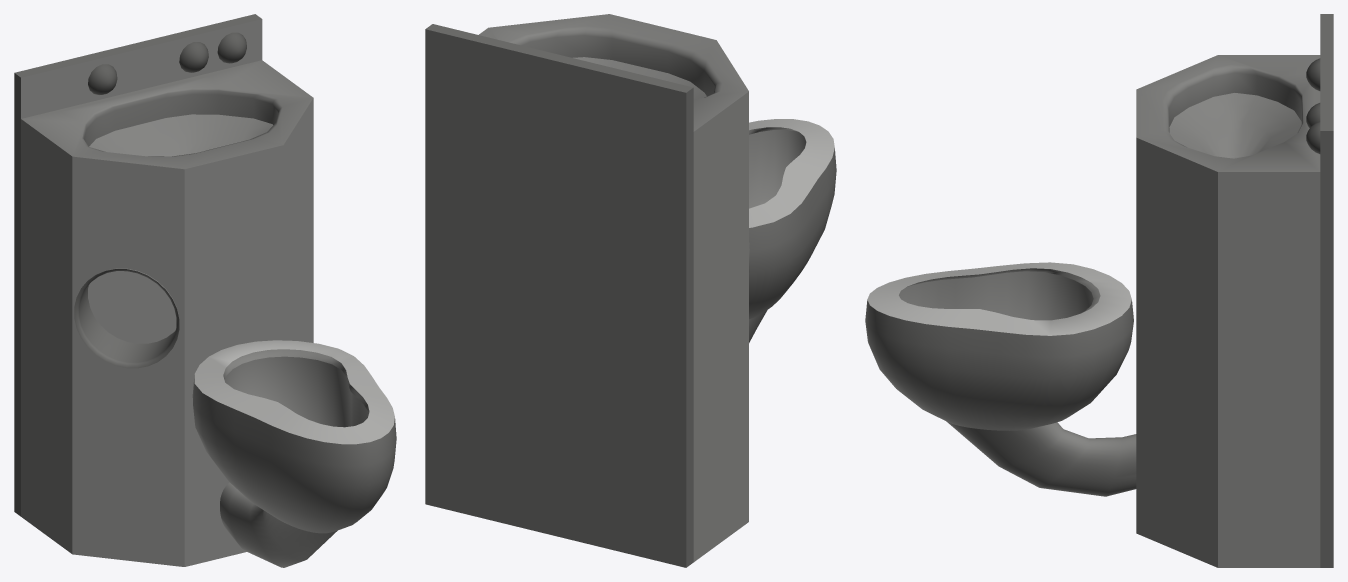
Rendered from toilet.fbx.
3 renders of one model, left to right at view 1: azimuth 30°, elevation 25°; view 2: azimuth 150°, elevation 25°; view 3: azimuth 270°, elevation 25°, orthographic. The views are drawn at different scales.
Visible parts, largest first — view 1: Cube; view 2: Cube; view 3: Cube.
Boxes of the visible parts, <box> form: Cube: <box>14,14,396,567</box>; Cube: <box>425,14,836,567</box>; Cube: <box>865,14,1333,567</box>.
Size of the model in its own units: 334 by 582 by 565.
1 material, 1 textured.
